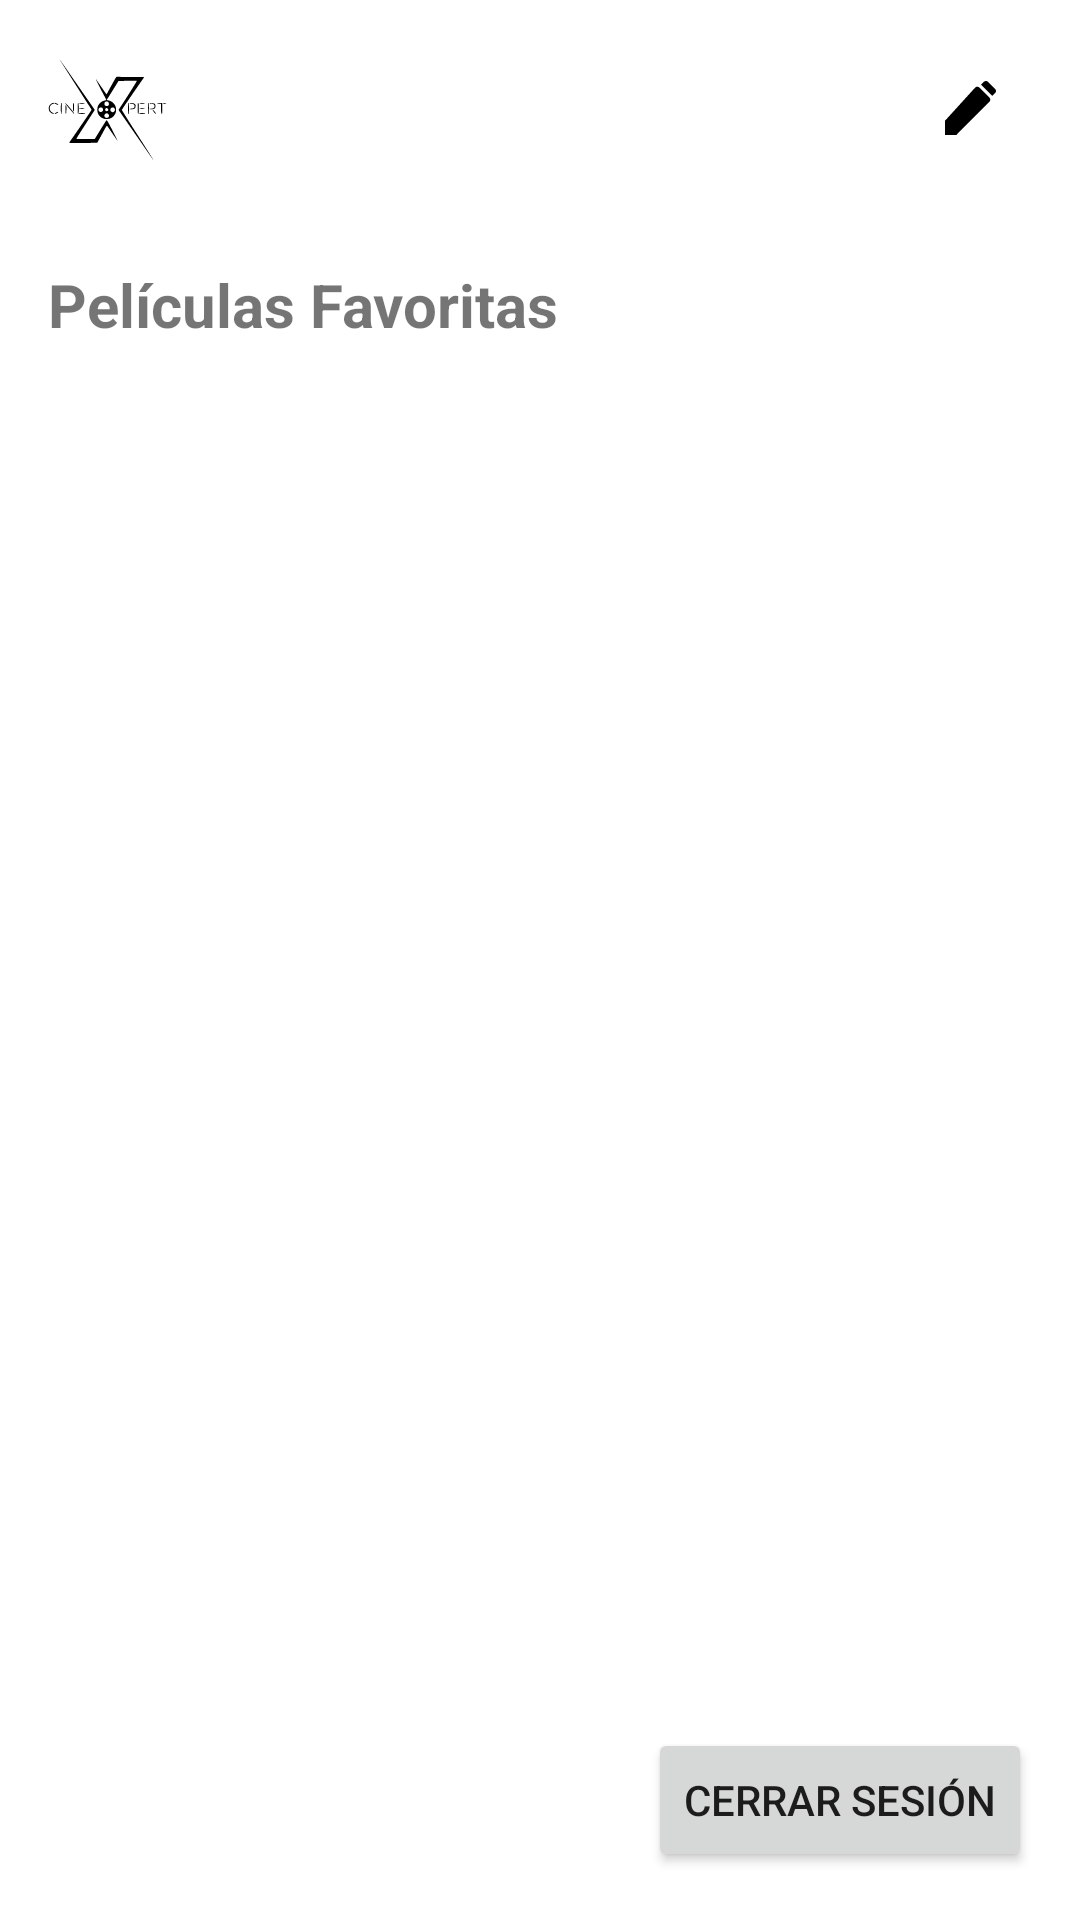

Where icons sit on this 1080px x 1920px app screen, as {"left": x1, "top": y1, "right": x2, "bottom": y2}:
Editar Perfil: {"left": 945, "top": 81, "right": 996, "bottom": 135}
